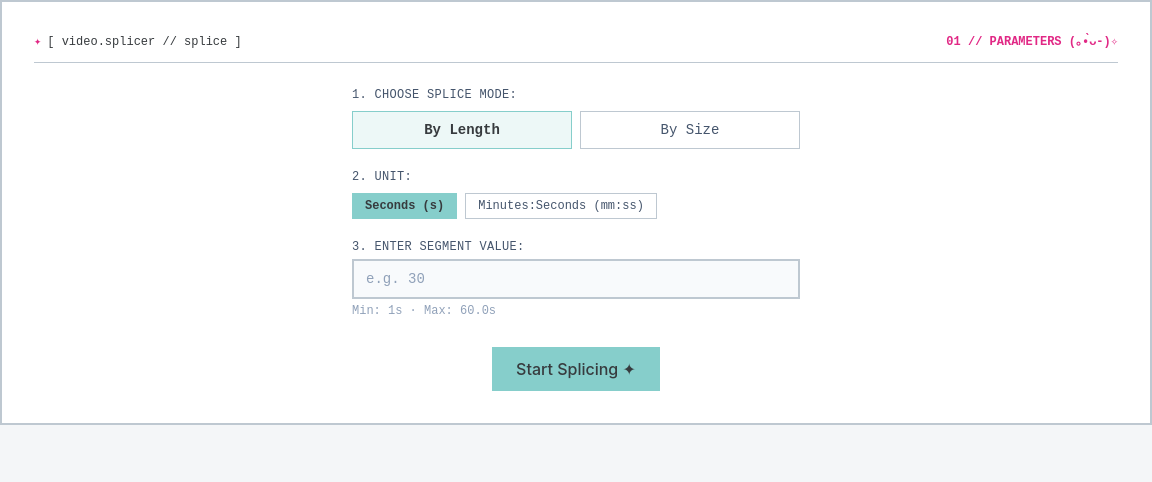
Test: SplicePanel › mode and value form validation › validates ByLength minimum segment length (at least 1s)
This screenshot has width=1152, height=482.
Type "0.5" into the field with test id "splice-value-input" at (576, 279), box top-left (352, 259), bottom-right (800, 299)
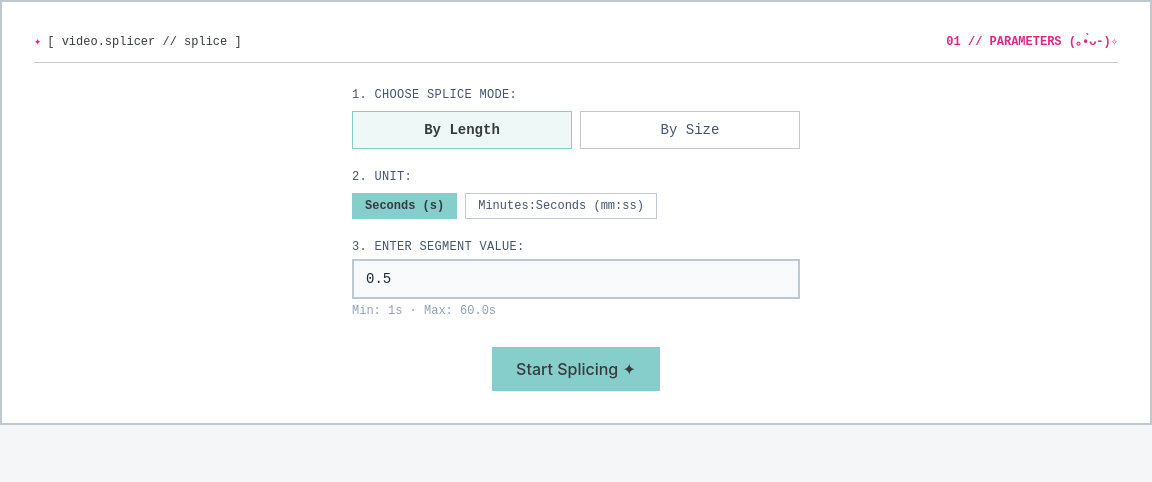
Click the button with test id "start-splice-btn" at (576, 369), box top-left (492, 347), bottom-right (660, 391)
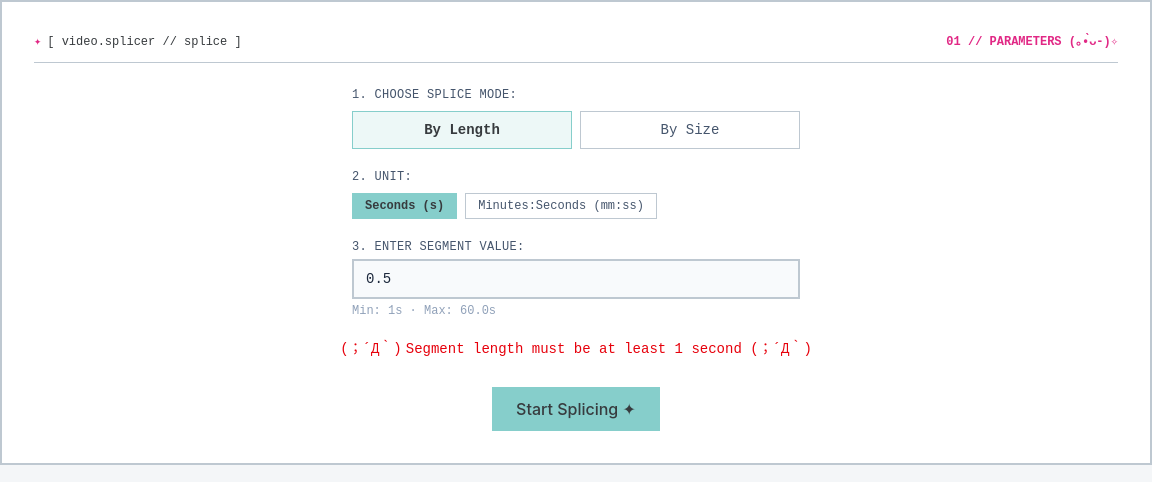
Result: the message with test id "splice-validation-error" shows "Segment length must be at least 1 second" at top-left (406, 341), bottom-right (812, 357)
